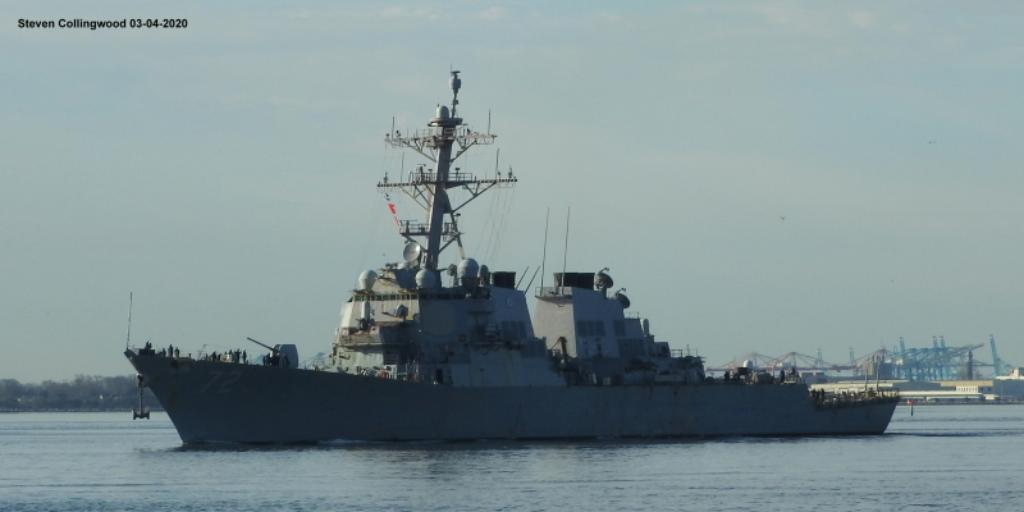Warship: (123, 62, 907, 448)
